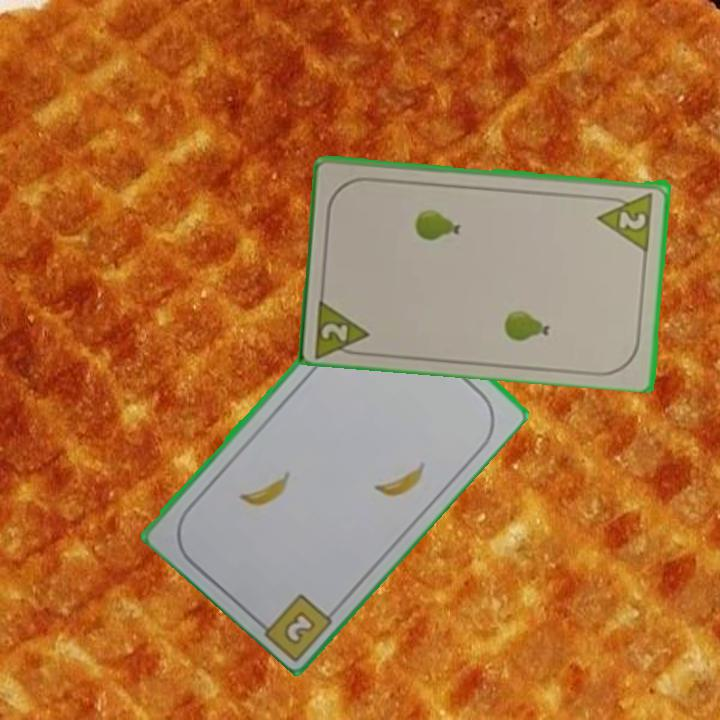2b: (279, 606, 319, 647)
2p: (311, 292, 373, 358), (615, 205, 649, 232)
